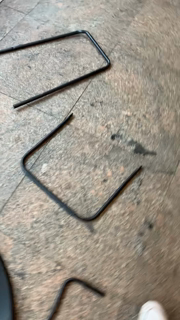C pipe: (21, 111, 146, 225)
U pipe: (2, 29, 113, 114)
